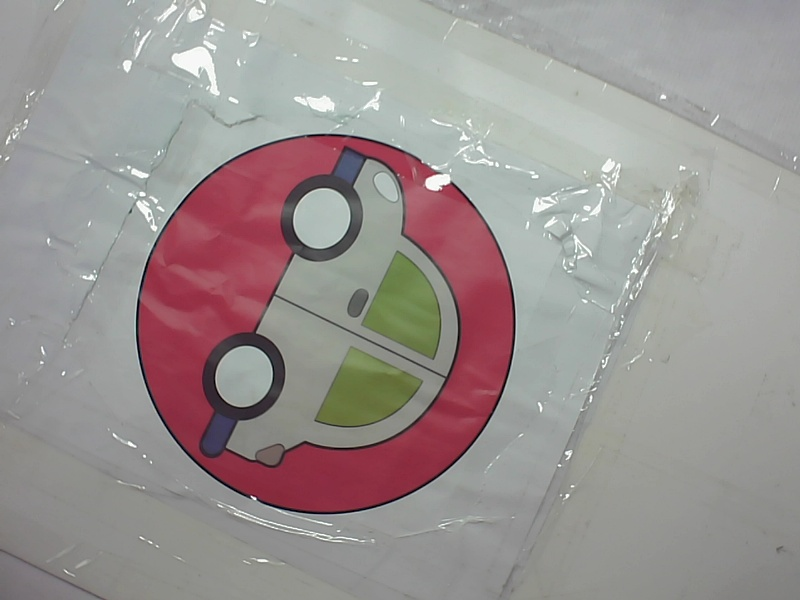areaC: (119, 132, 536, 522)
